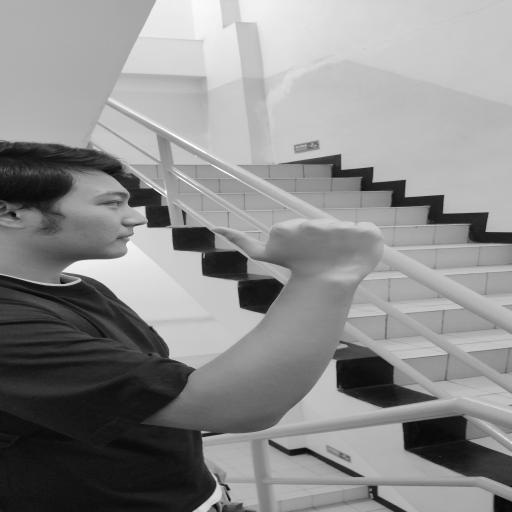back: (193, 204, 427, 293)
